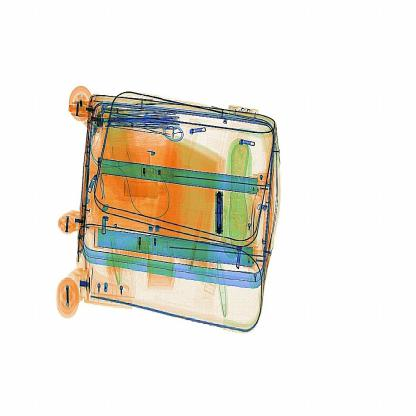scissors: (212, 189, 226, 239)
